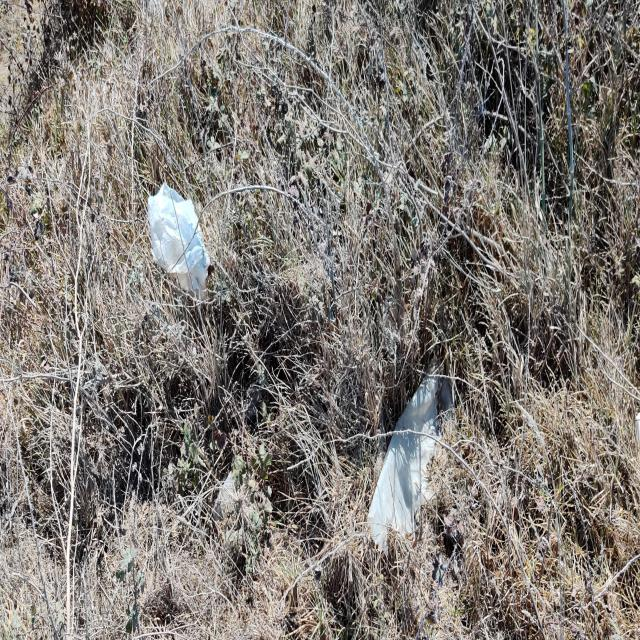litter: (365, 369, 439, 551), (146, 168, 213, 291)
